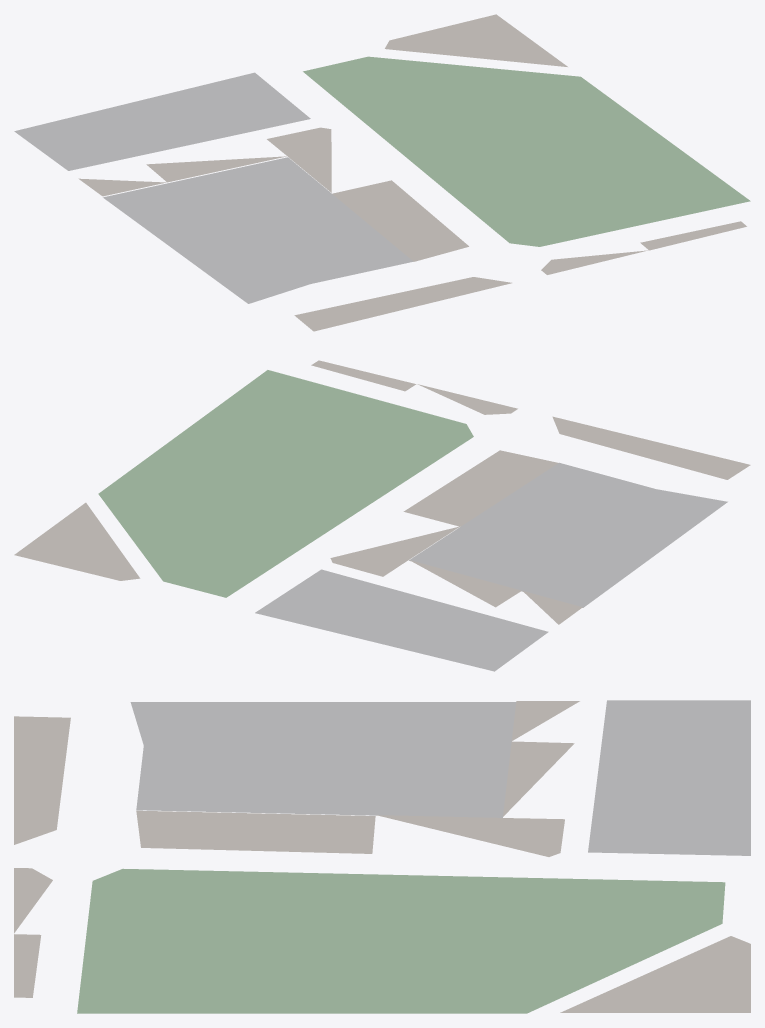
Rendered from 141_107_mid.glb.
3 renders of one model, top to bottom at view 1: azimuth 30°, elevation 25°; view 2: azimuth 150°, elevation 25°; view 3: azimuth 270°, elevation 25°, orthographic. The views are drawn at different scales.
Size of the model in its own units: 500 by 2.47 by 500.
